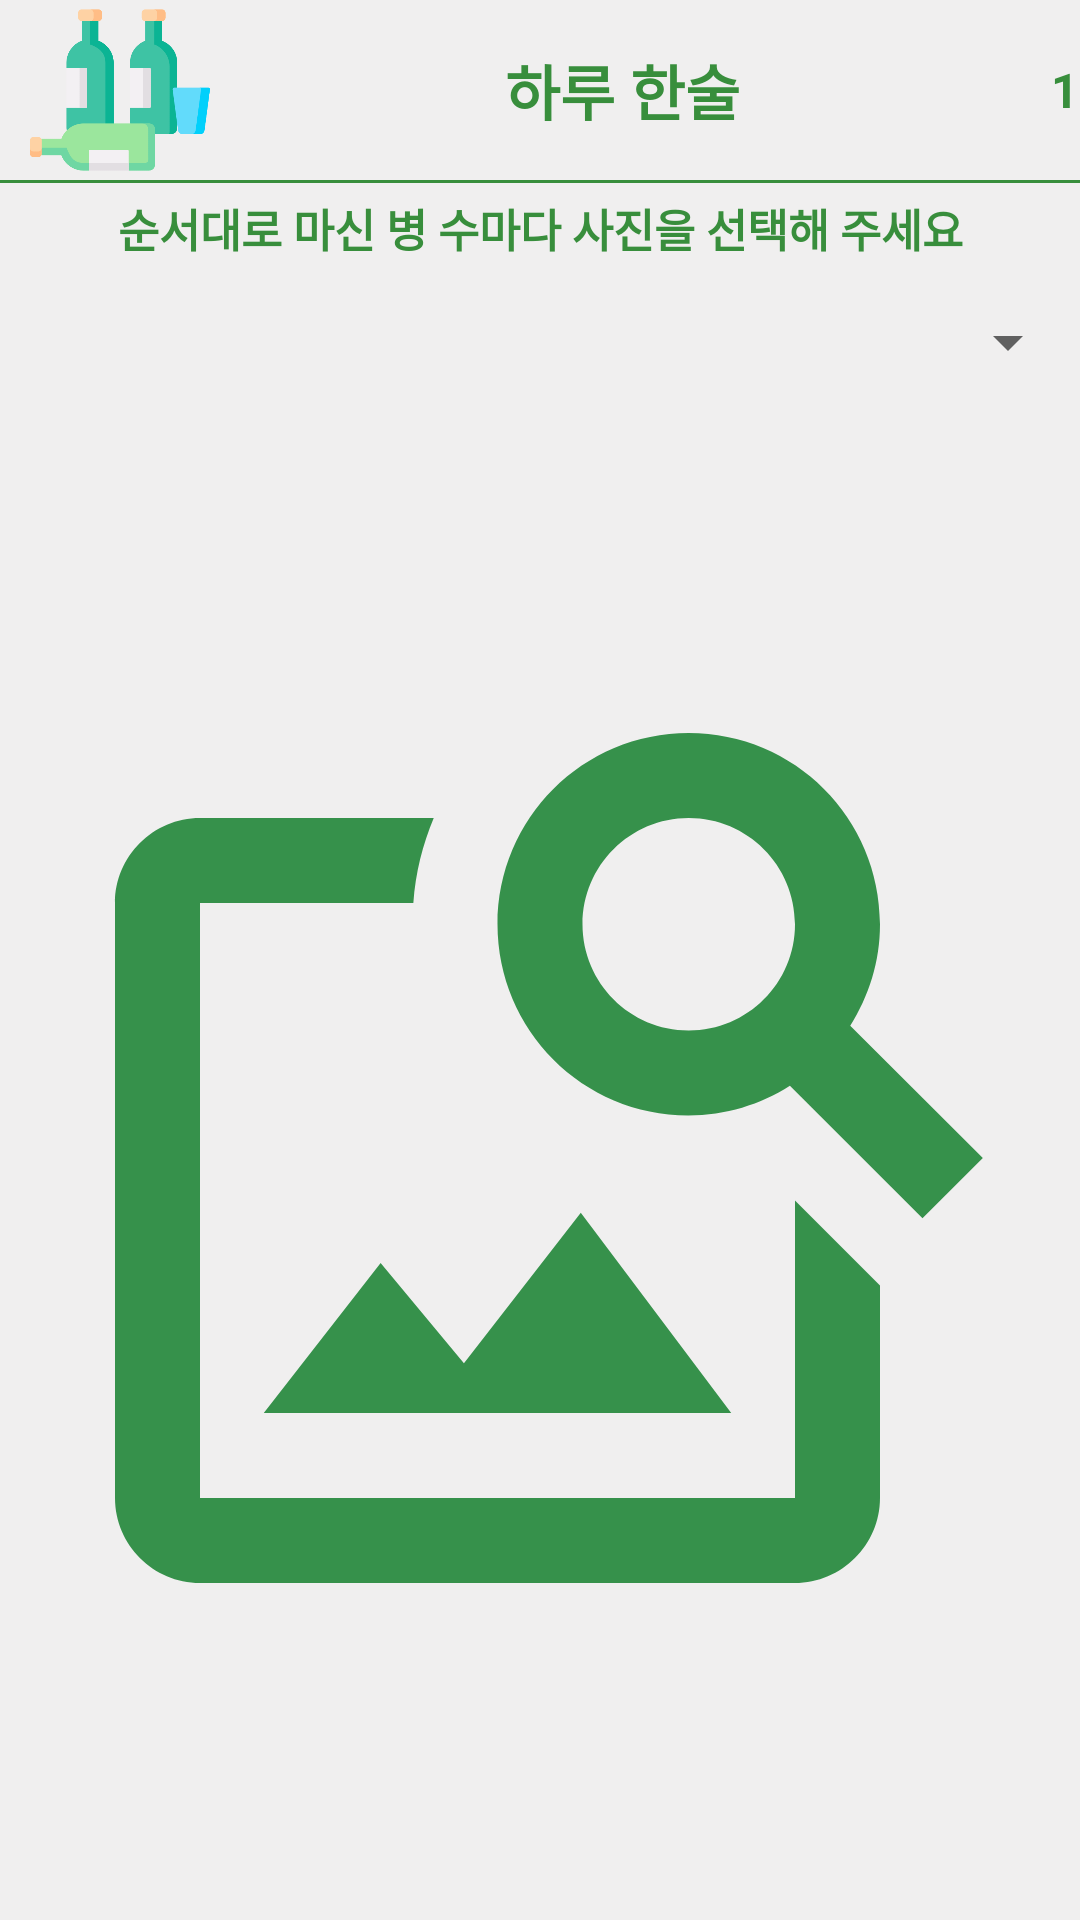

Screen size 1080 x 1920. Icon name, then its center in pixels as (x,y):
drunk: (120,90)
